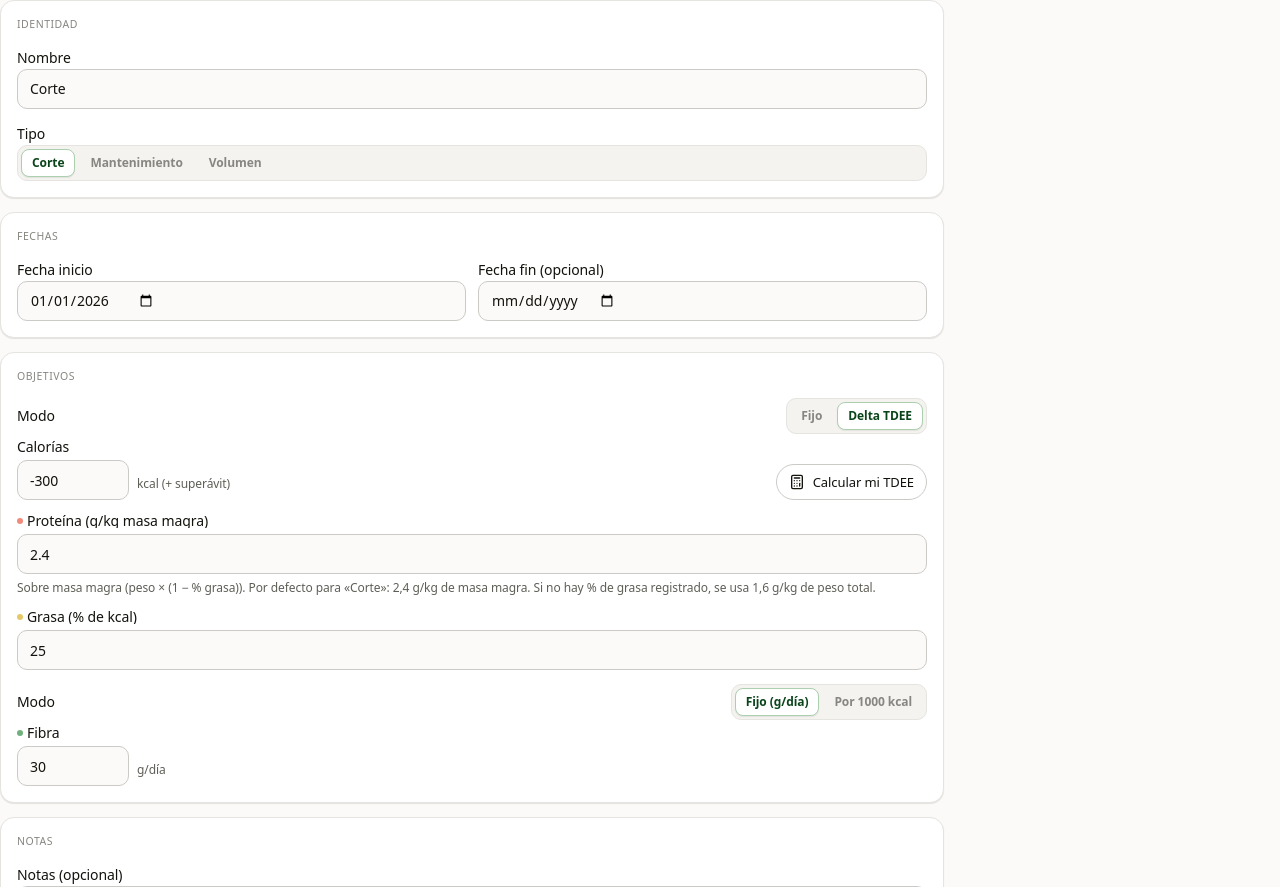
Test: PhaseEditorForm — the TDEE sheet (R-37) › applying writes the kcal value AND flips the mode to absolute
Check: the field labelled "Calorías" holds "-300", box [17,460,129,500]
Check: the text "kcal (+ superávit)" is shown, box [137,476,230,500]
Click the button with test id "phase-open-tdee". click: (851, 482)
box: [776,464,927,500]
(page scrolled)
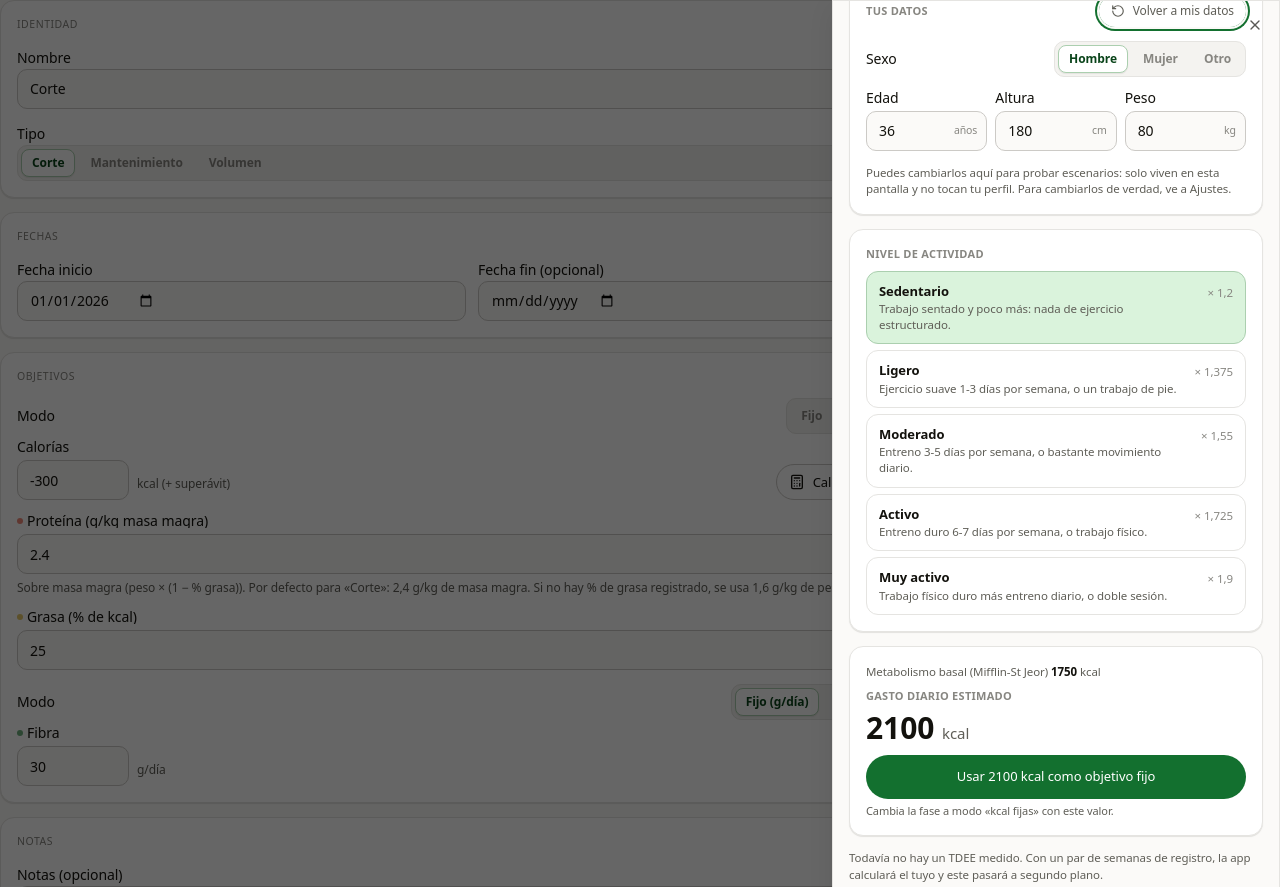
Check: the element with test id "tdee-result" shows "2100", box [866,706,934,748]
Click the button with test id "tdee-apply". click: (1056, 776)
box: [866,754,1246,798]
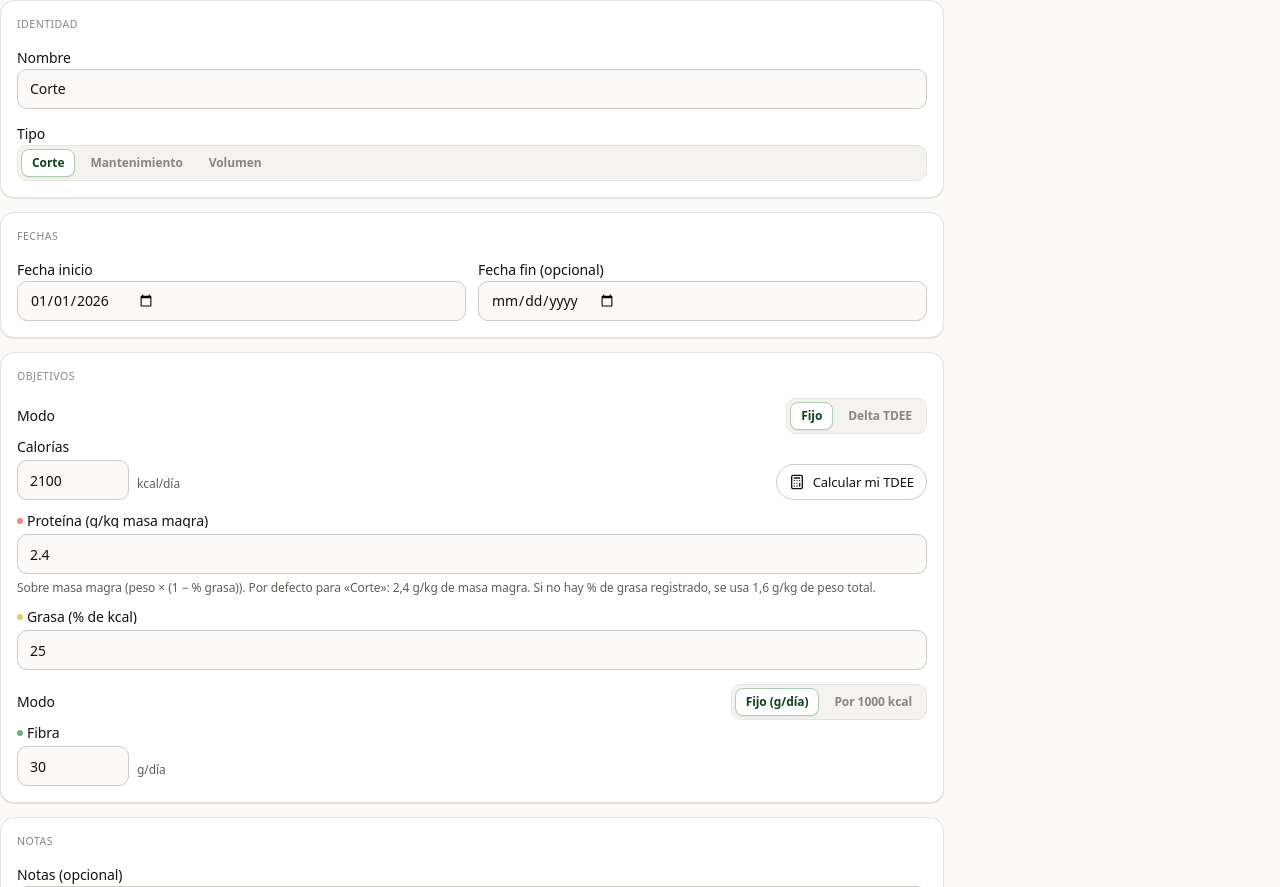
Check: the button with test id "tdee-apply" is gone
Check: the field labelled "Calorías" holds "2100", box [17,460,129,500]
Check: the text "kcal/día" is shown, box [137,476,180,500]
